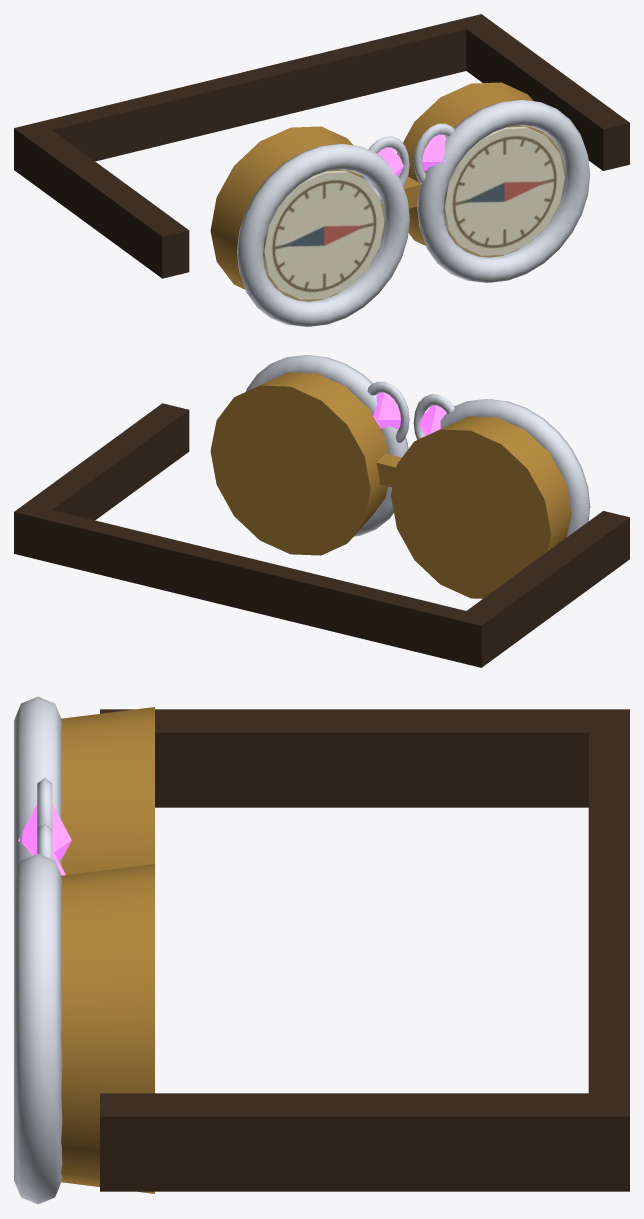
Rendered from gl_eqsa2.glb.
The picture shows the model from 3 angles, top to bottom: view 1: azimuth 30°, elevation 25°; view 2: azimuth 150°, elevation 25°; view 3: azimuth 270°, elevation 25°; orthographic projection. The views are drawn at different scales.
Bounding box in the file's own units: 2.16 × 0.7854 × 1.38.
Materials: 7 (2 with a texture image).
